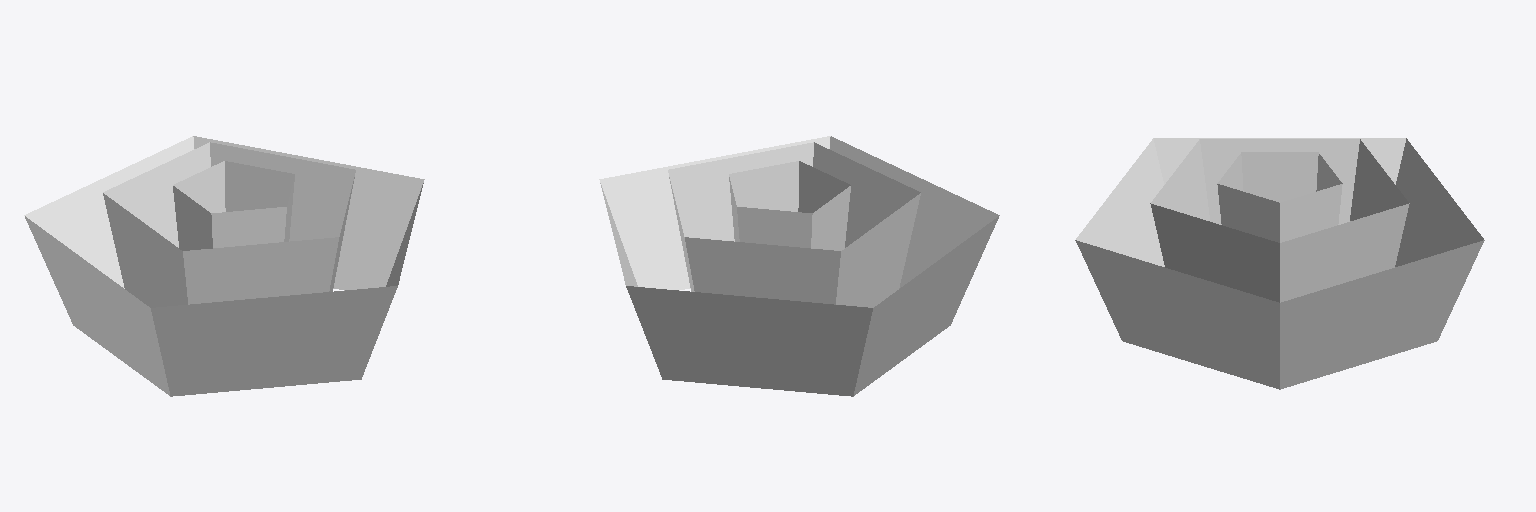
File: grass.obj
The picture shows the model from 3 angles: view 1: azimuth 30°, elevation 25°; view 2: azimuth 150°, elevation 25°; view 3: azimuth 270°, elevation 25°; orthographic projection.
Visible parts, largest first — view 1: World_Khazmodan_wetlands_passivedoodads_bushes_wetlandgrass04.m2; view 2: World_Khazmodan_wetlands_passivedoodads_bushes_wetlandgrass04.m2; view 3: World_Khazmodan_wetlands_passivedoodads_bushes_wetlandgrass04.m2.
Boxes of the visible parts, x1,y1,x2,y2 form: World_Khazmodan_wetlands_passivedoodads_bushes_wetlandgrass04.m2: [24, 136, 424, 396]; World_Khazmodan_wetlands_passivedoodads_bushes_wetlandgrass04.m2: [599, 136, 999, 396]; World_Khazmodan_wetlands_passivedoodads_bushes_wetlandgrass04.m2: [1075, 138, 1484, 389].
Size of the model in its own units: 1.94 by 0.7955 by 2.04.